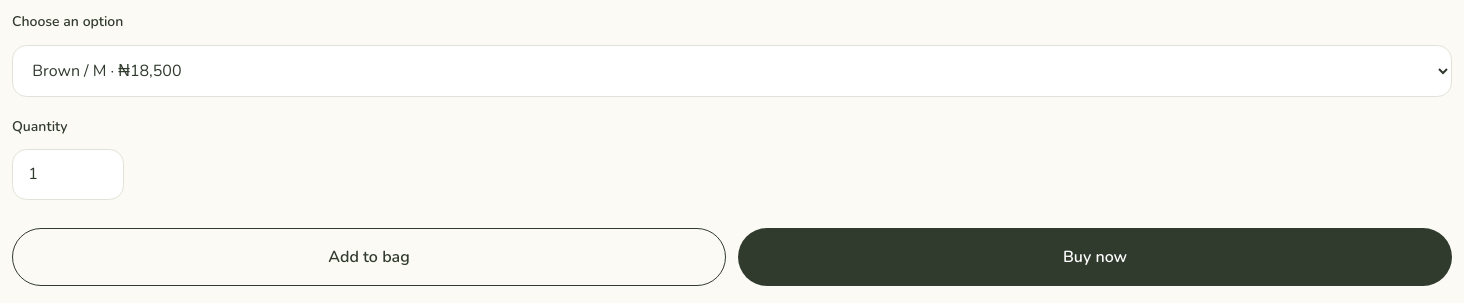
ProductPurchasePanel › rejects fractional quantities instead of silently changing the requested amount
Replace the text in the number field labelled "Quantity" with "1.5": x=68, y=174 left=12, top=149, right=124, bottom=200
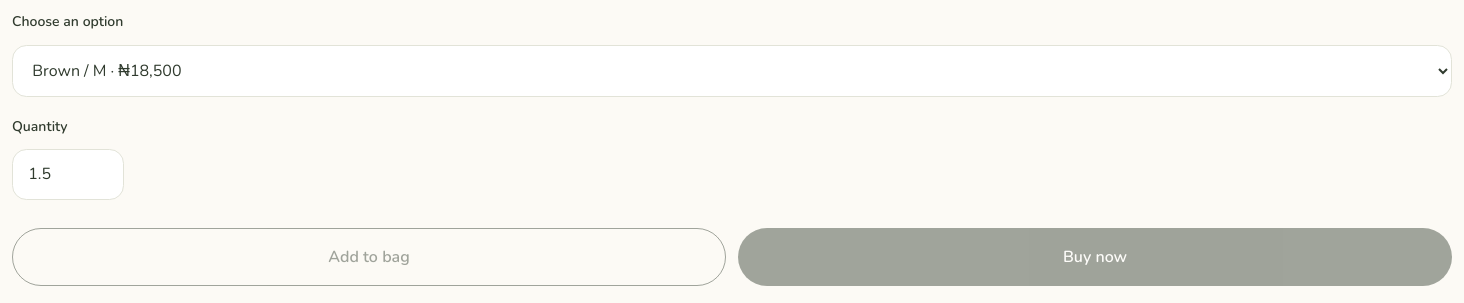
Now the button "Add to bag" is disabled, box left=12, top=228, right=726, bottom=286
Now the button "Buy now" is disabled, box left=738, top=228, right=1452, bottom=286
